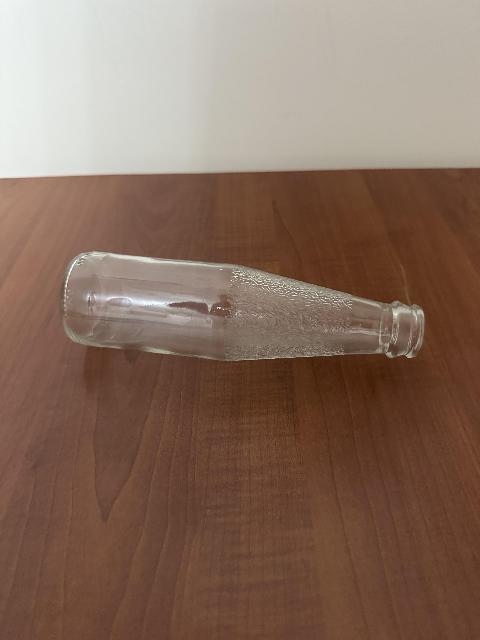Cam: (59, 249, 427, 360), (126, 351, 136, 361)
